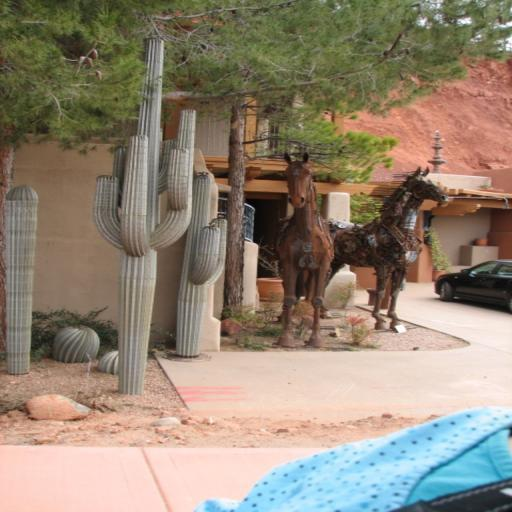horse: (294, 166, 452, 334), (272, 150, 337, 352)
